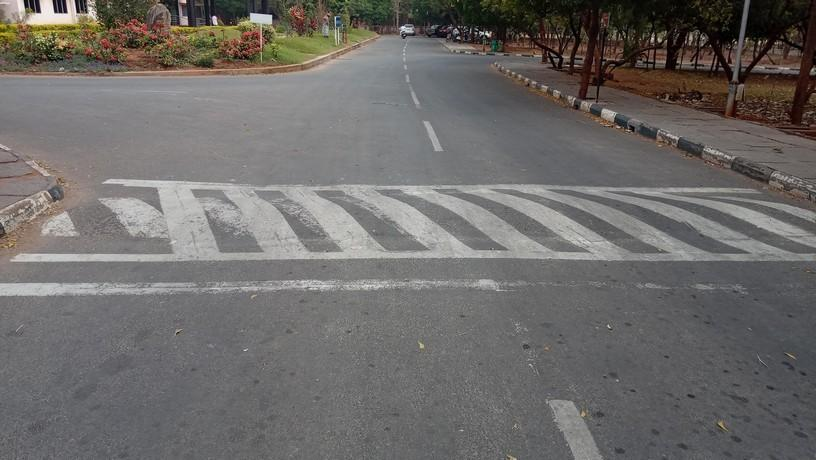speed-bump: (42, 176, 815, 269)
